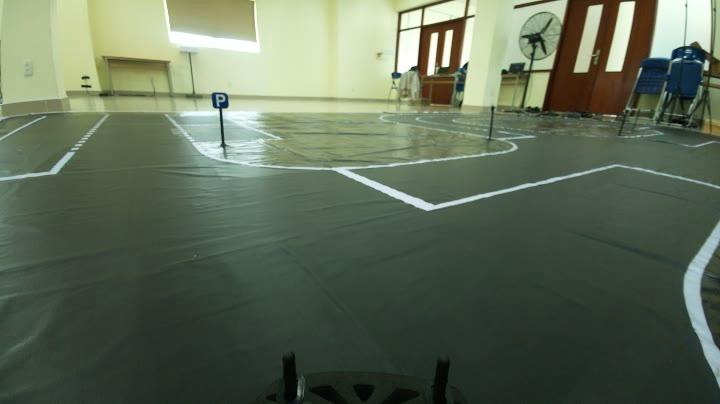parking: (210, 86, 229, 109)
